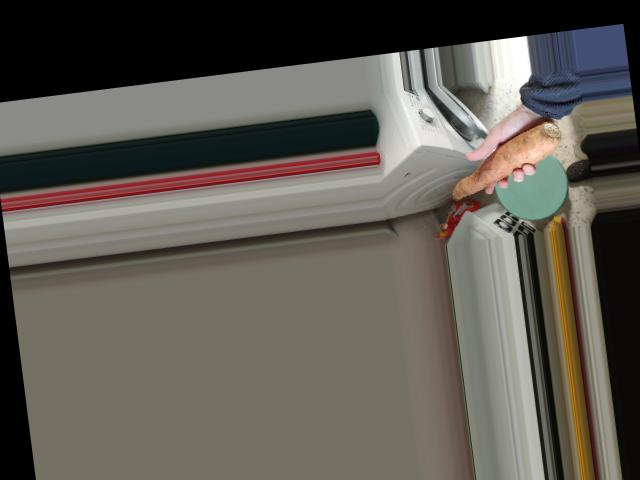sweet_potato: (435, 116, 570, 207)
